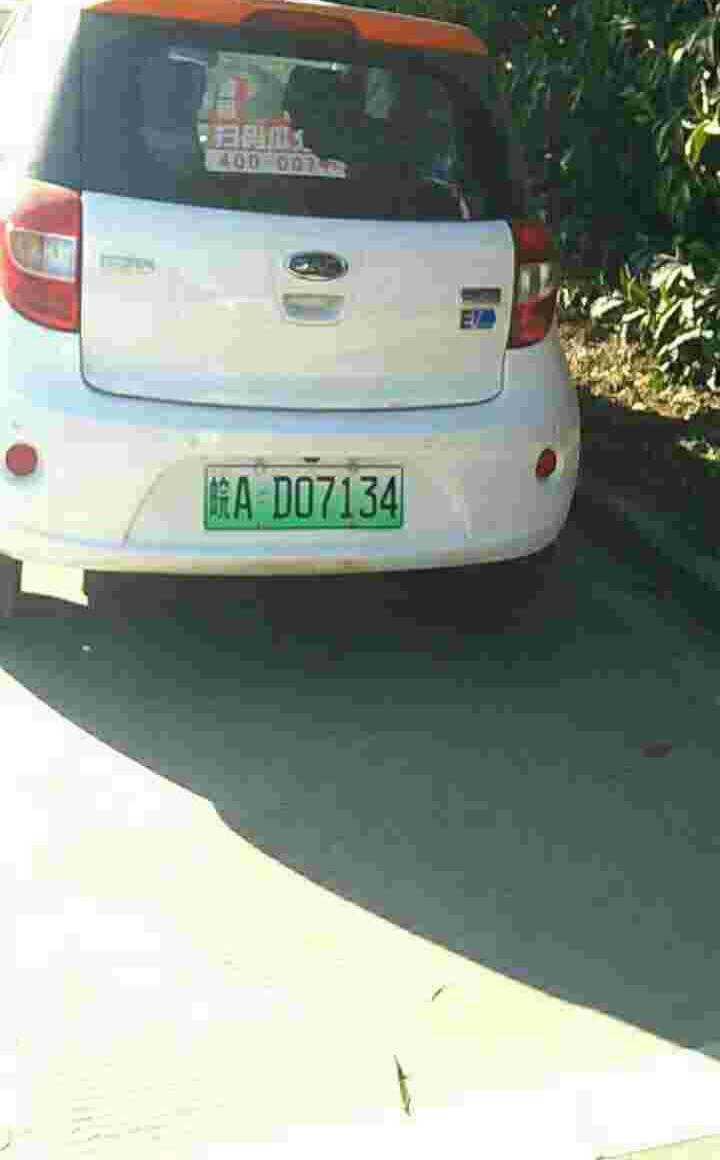car_id: (204, 462, 402, 529)
